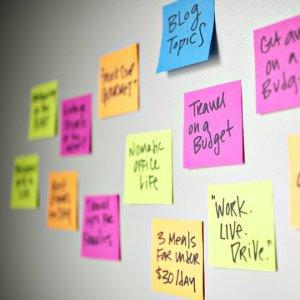stickynote: (205, 176, 283, 273), (181, 79, 249, 169), (252, 12, 300, 118), (149, 217, 206, 300), (154, 1, 217, 75), (123, 127, 176, 207), (96, 42, 144, 119), (80, 194, 122, 262), (57, 93, 93, 159), (47, 169, 80, 233), (27, 78, 57, 140), (10, 153, 41, 210)
